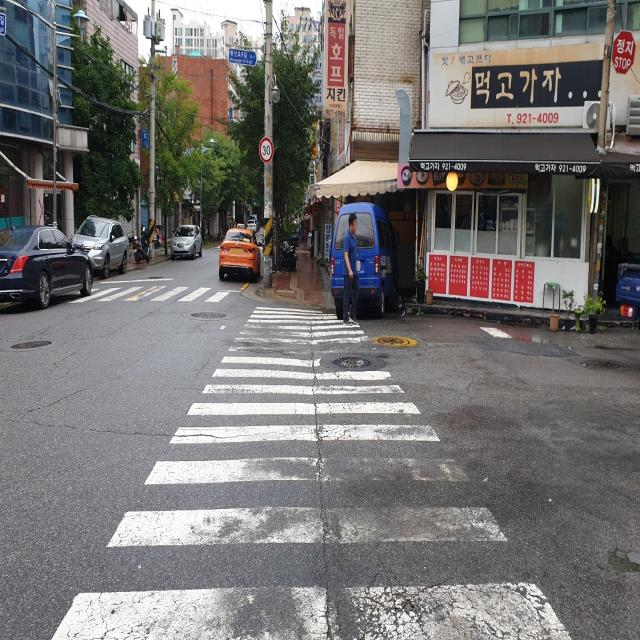횡단보도: (52, 307, 573, 640), (74, 281, 237, 304)
